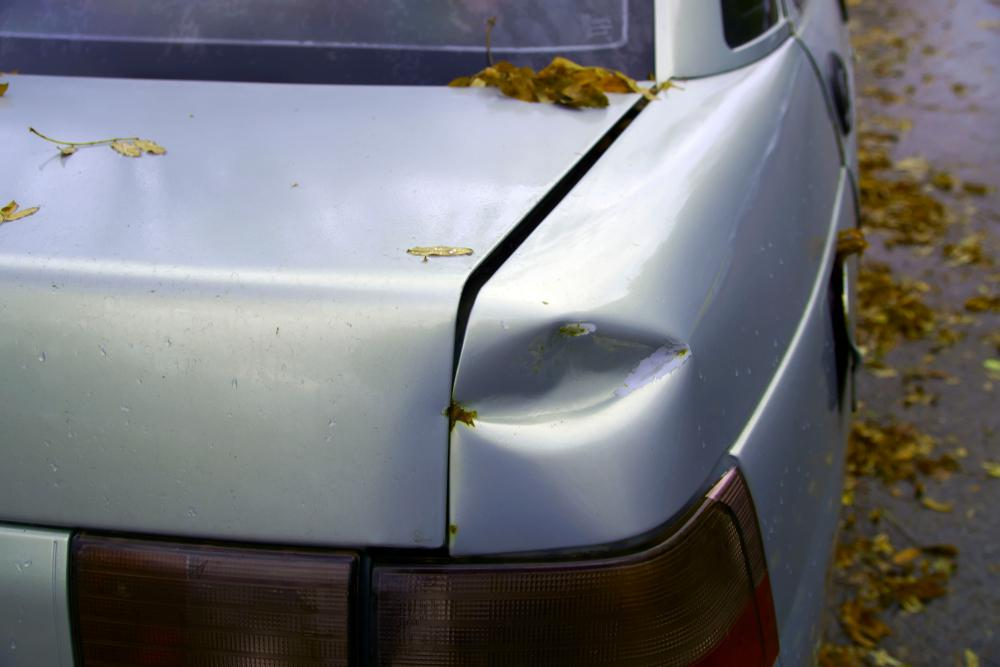dent: (457, 319, 690, 427)
